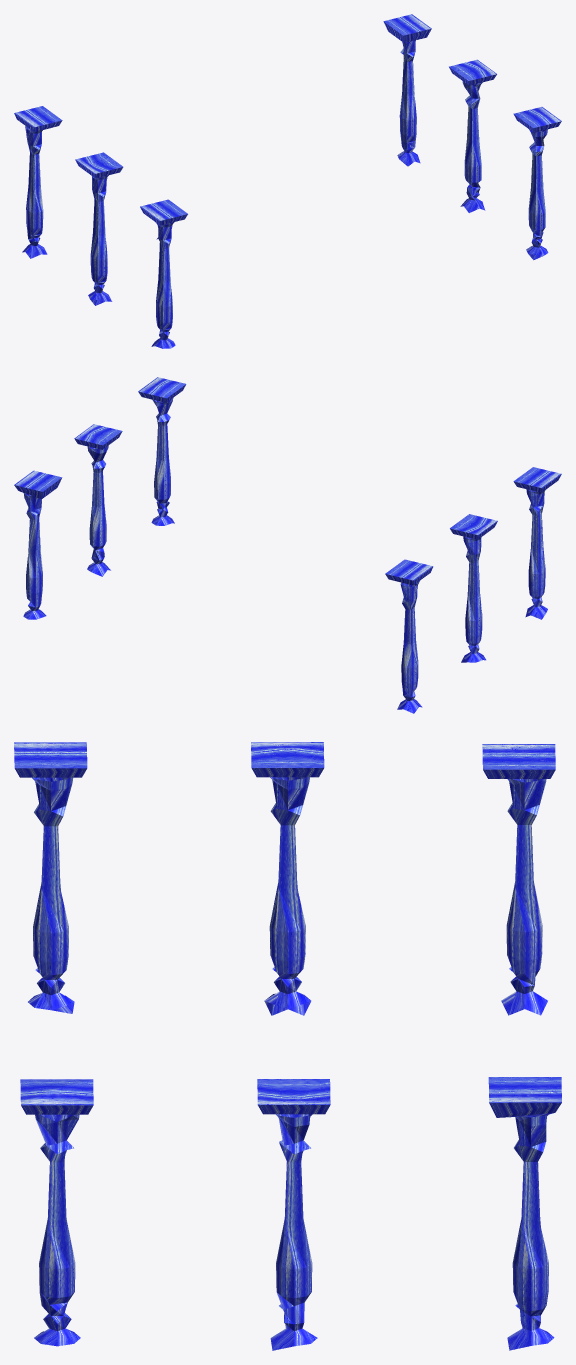
3 views of the same model, one above another, from view 1: azimuth 30°, elevation 25°; view 2: azimuth 150°, elevation 25°; view 3: azimuth 270°, elevation 25° (orthographic). The views are drawn at different scales.
Bounding box in the file's own units: 0.8398 × 0.2763 × 0.5356.
Materials: 1 (1 with a texture image).
